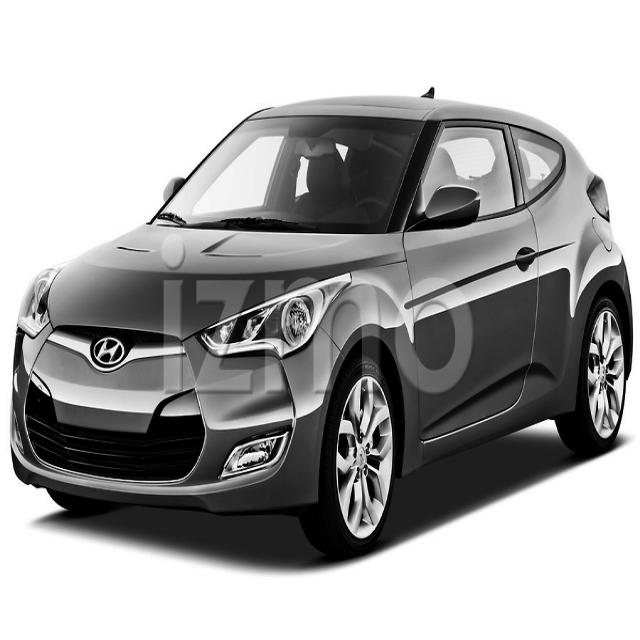car: (9, 86, 633, 560)
